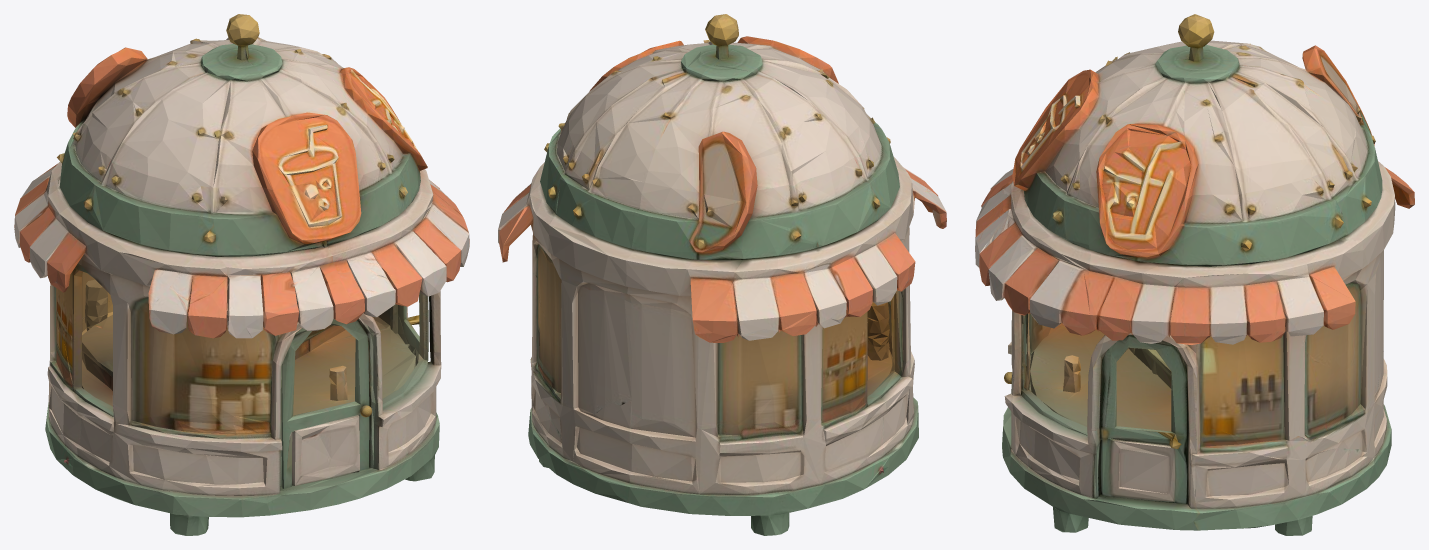
The model's file is 03-soda-cafe.glb.
3 views of the same model, side by side, from view 1: azimuth 30°, elevation 25°; view 2: azimuth 150°, elevation 25°; view 3: azimuth 270°, elevation 25° (orthographic). The views are drawn at different scales.
Bounding box in the file's own units: 0.8801 × 0.9993 × 0.8761.
1 material, 1 textured.
